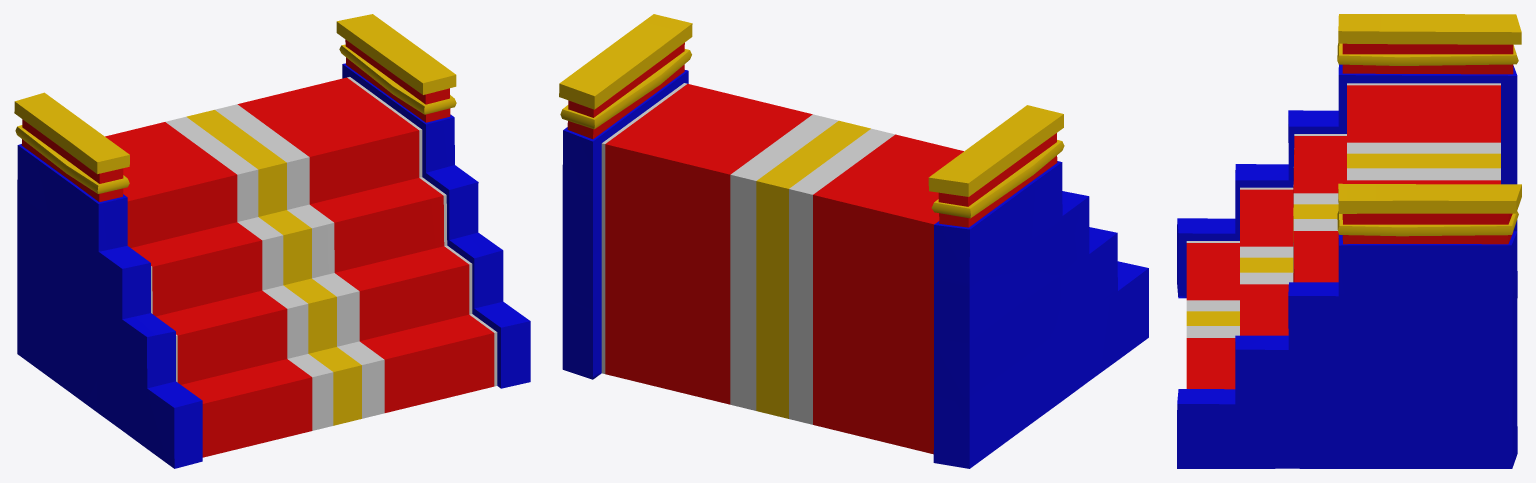
The model's file is FbxStairs.fbx.
The picture shows the model from 3 angles, left to right: view 1: azimuth 30°, elevation 25°; view 2: azimuth 150°, elevation 25°; view 3: azimuth 270°, elevation 25°; orthographic projection. The views are drawn at different scales.
Parts seen in each view (by area): view 1: Stairs; view 2: Stairs; view 3: Stairs.
Part boxes in pixels (x1=…): Stairs: x1=14, y1=14, x2=530, y2=468; Stairs: x1=559, y1=14, x2=1148, y2=468; Stairs: x1=1177, y1=14, x2=1521, y2=468.
Bounding box in the file's own units: 8.37 × 5.55 × 6.46.
